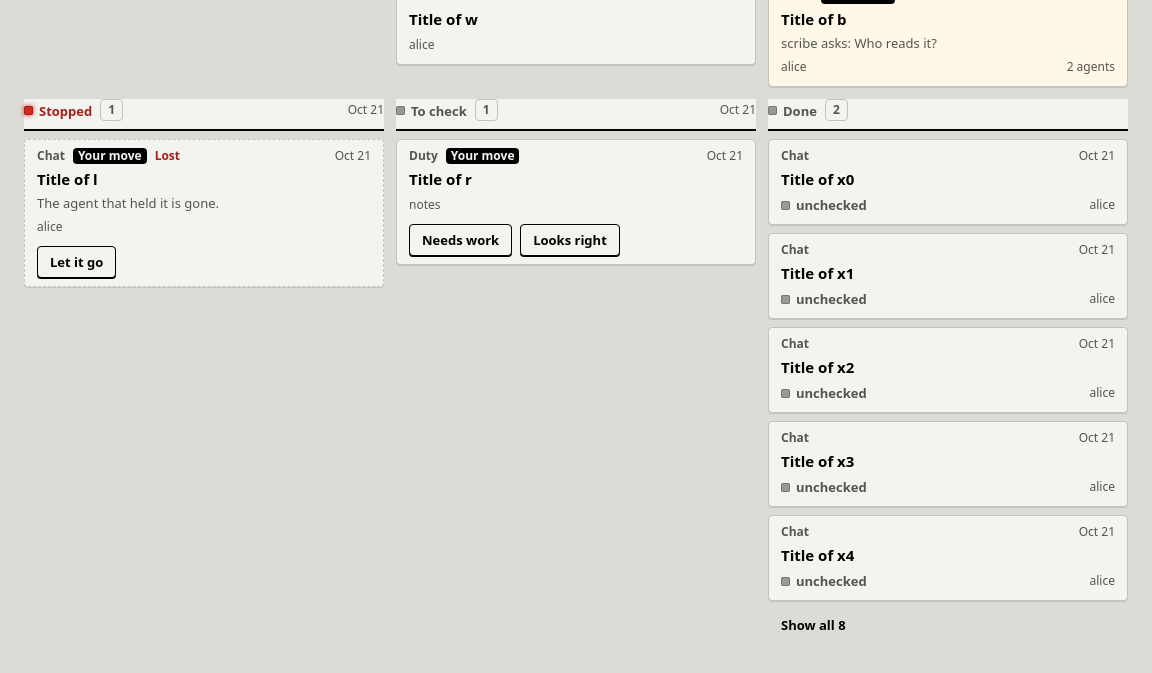
Scenario: the board of the work › shows the newest done cards, and Show all shows every one
The width and height of the screenshot is (1152, 673).
(page scrolled)
Click the button with class "work-all" at [813, 625], box 768,609 -> 859,641
(page scrolled)
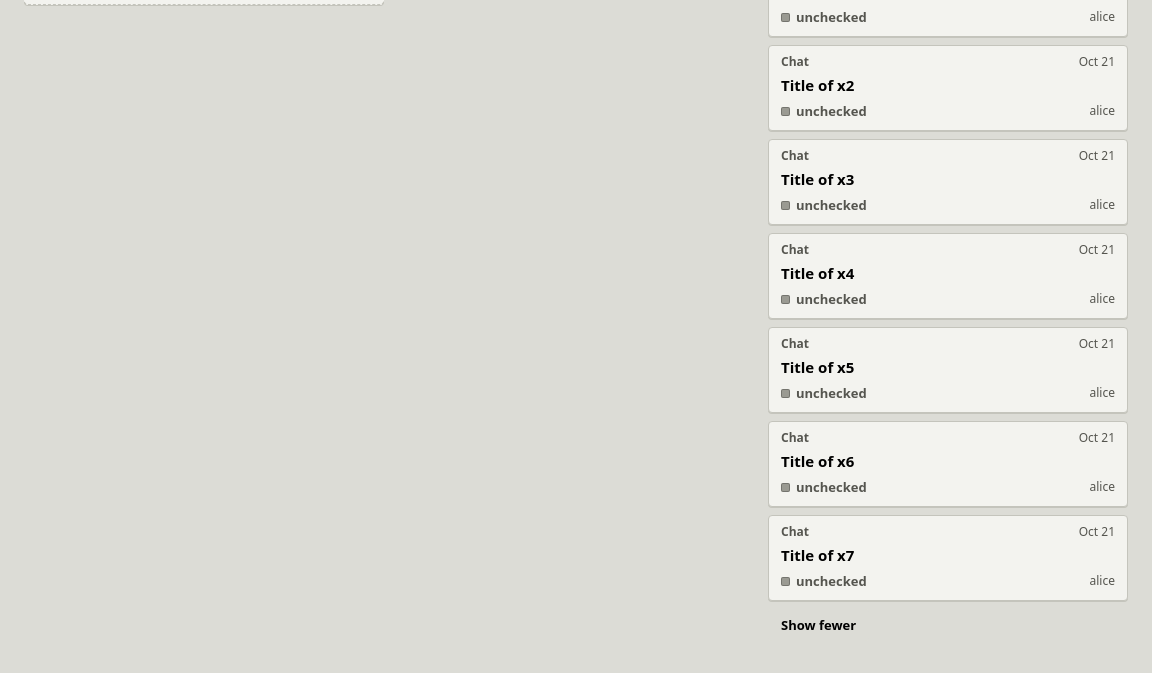
Check: the button with class "work-all" reads "Show fewer", box 768,609 -> 869,641
